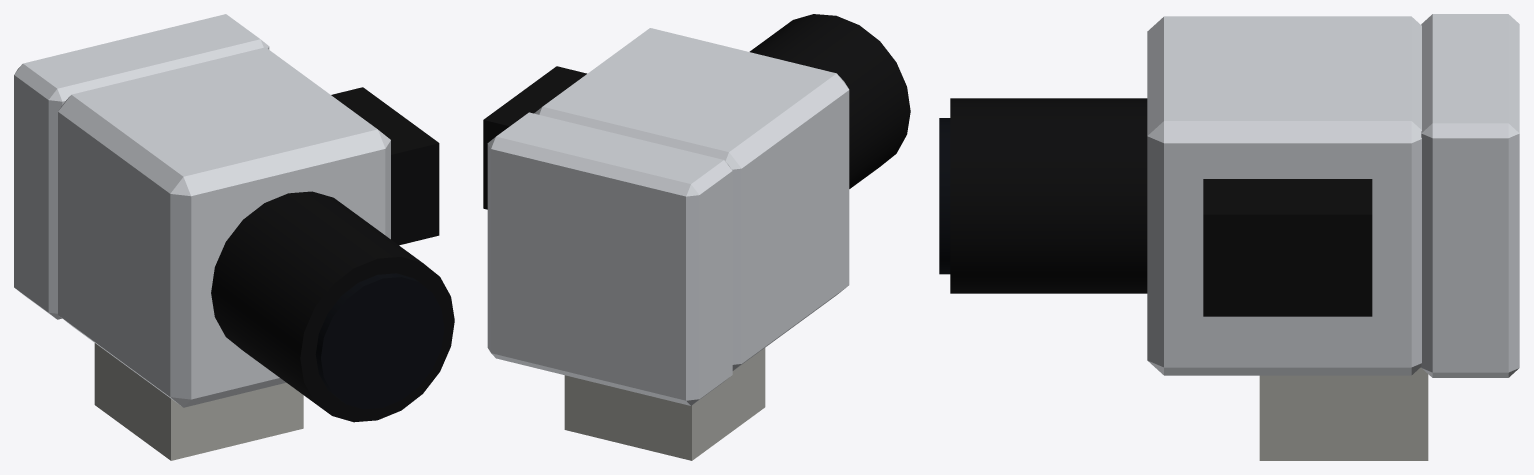
Rendered from hasselblad.glb.
3 renders of one model, left to right at view 1: azimuth 30°, elevation 25°; view 2: azimuth 150°, elevation 25°; view 3: azimuth 270°, elevation 25°, orthographic. The views are drawn at different scales.
Visible parts, largest first — view 1: model; view 2: model; view 3: model.
Part boxes in pixels (box(x1,y1,x2,y2)): model: box(14, 14, 454, 460); model: box(483, 14, 910, 460); model: box(939, 14, 1519, 460).
Size of the model in its own units: 0.13 by 0.14 by 0.2065.
1 material, 1 textured.
